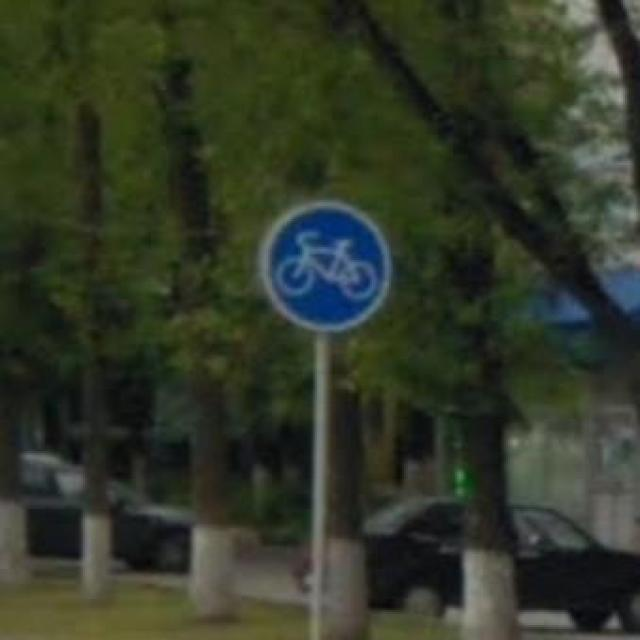traffic_sign: (257, 194, 396, 338)
